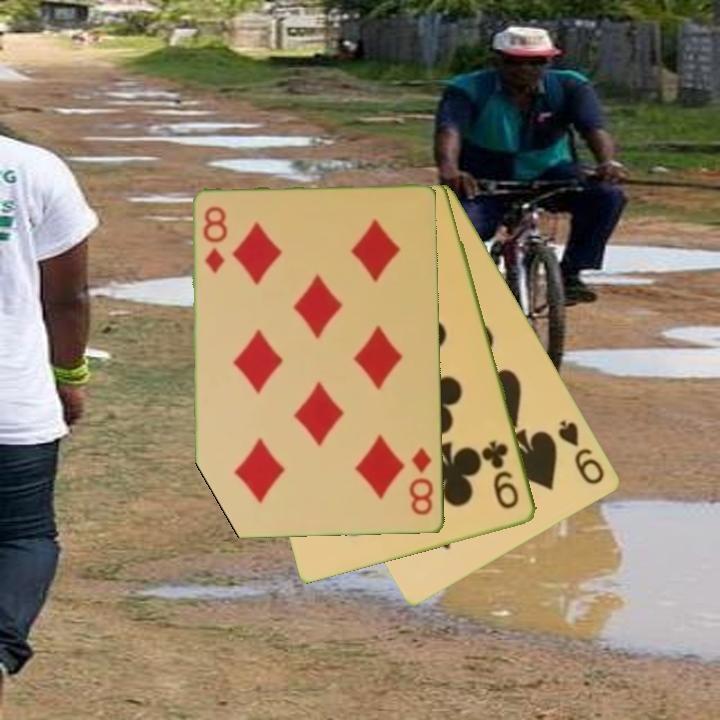8d: (406, 444, 437, 518), (200, 203, 228, 276)
9c: (481, 438, 522, 512)
9s: (555, 416, 608, 488)
